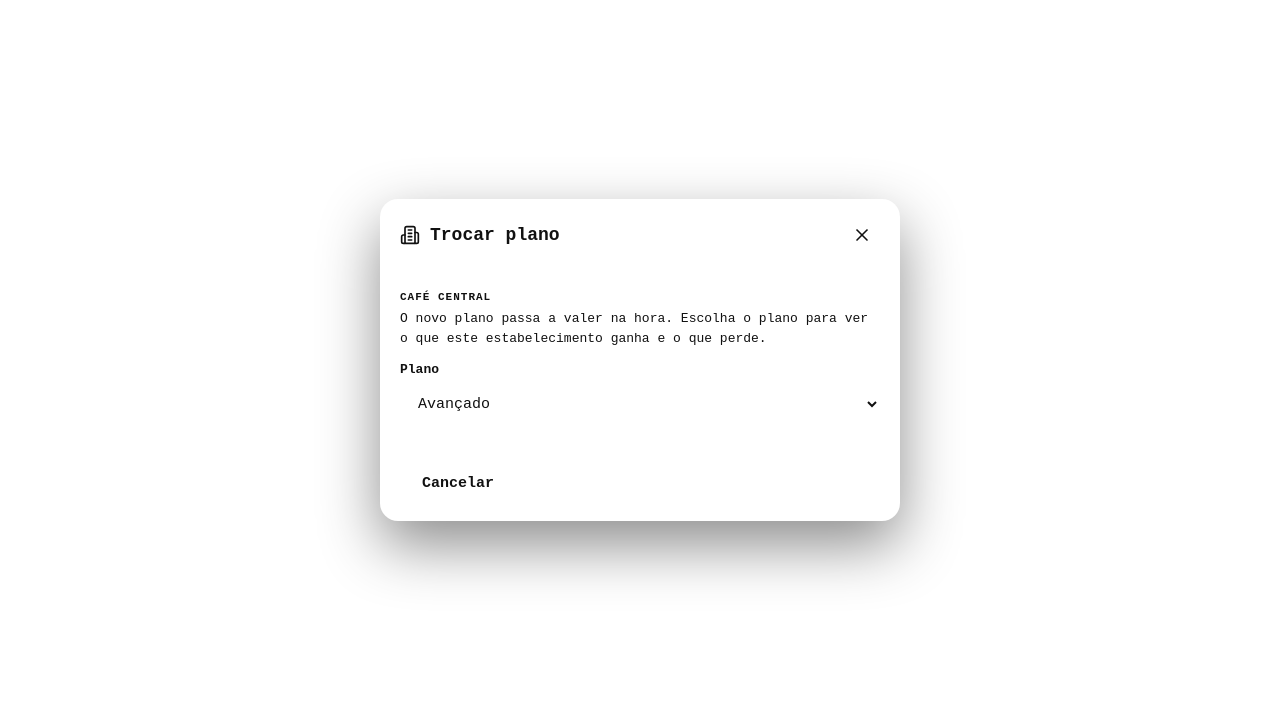
Test case: AlterarPlanoModal, a troca de plano diz o que o cliente perde › planos com os mesmos módulos: diz que muda só a cobrança e libera o salvar
The image size is (1280, 720).
Select "Básico" in the dropdown at x=640, y=404, box [400,383,880,426]
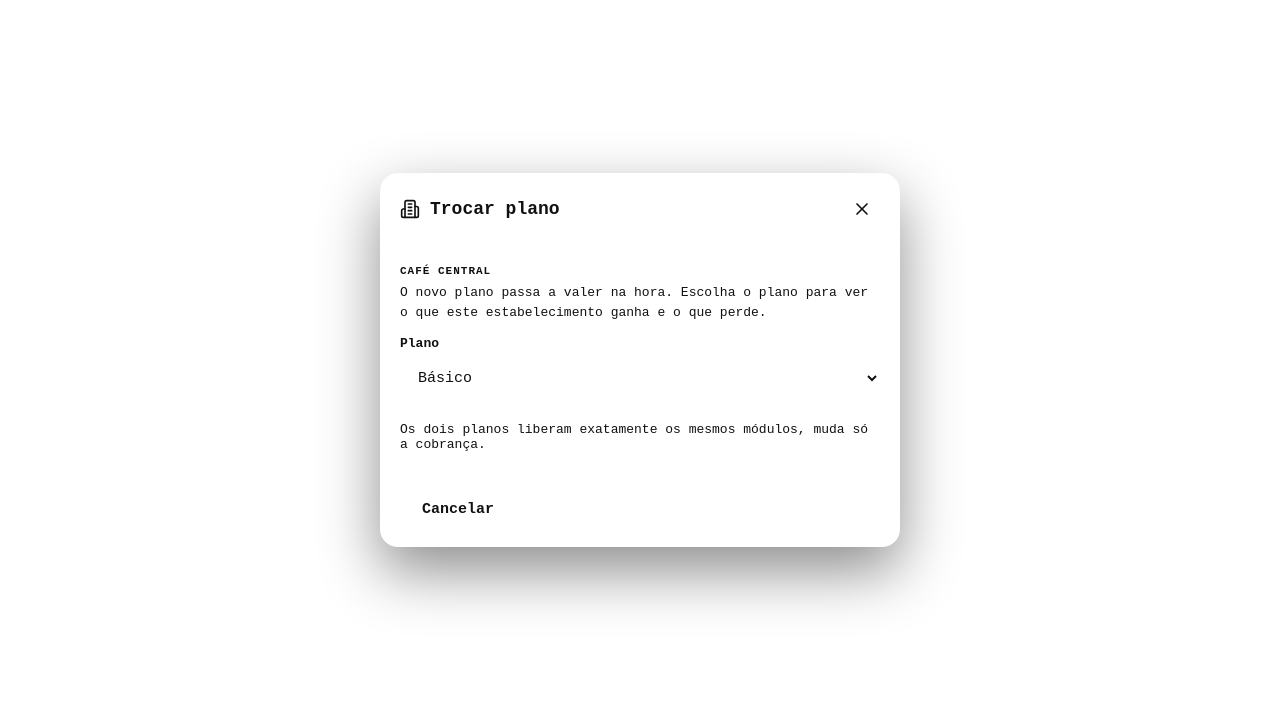
Expected: the text "Os dois planos liberam exatamente os mesmos módulos, muda só a cobrança." is shown, [400,422,880,452]
